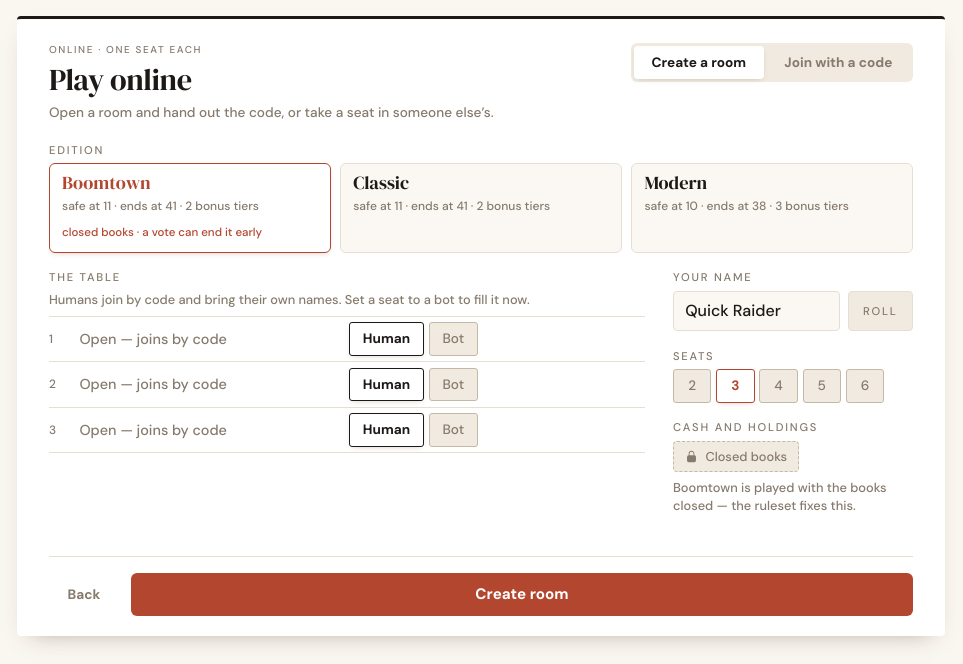
Scenario: CreateJoin › refuses a code the directory does not know, without saying why
The image size is (963, 664).
Click the button "Join with a code".
click(838, 63)  # box [767, 46, 910, 80]
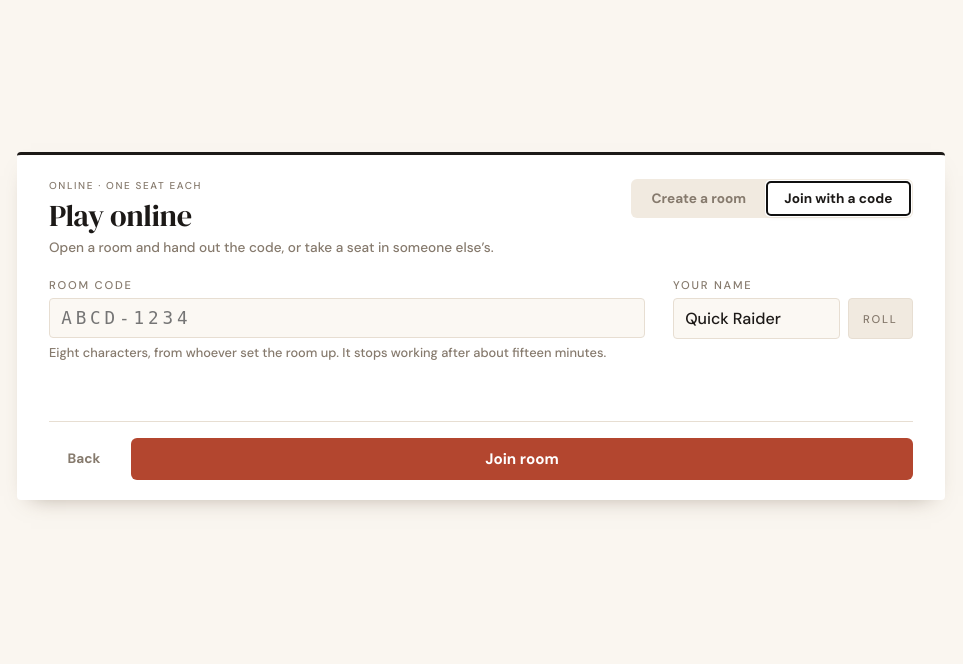
Type "ABCD1234" into the field labelled "Room code".
click(347, 318); type("ABCD1234")  # box [49, 298, 645, 338]
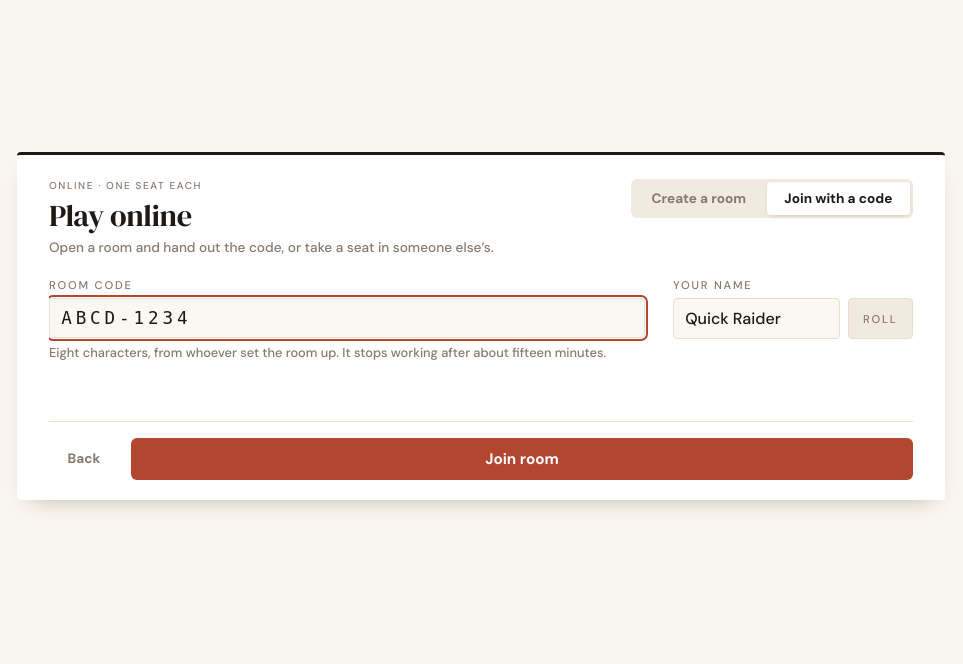
Click the button "Join room".
click(522, 459)  # box [131, 438, 913, 480]
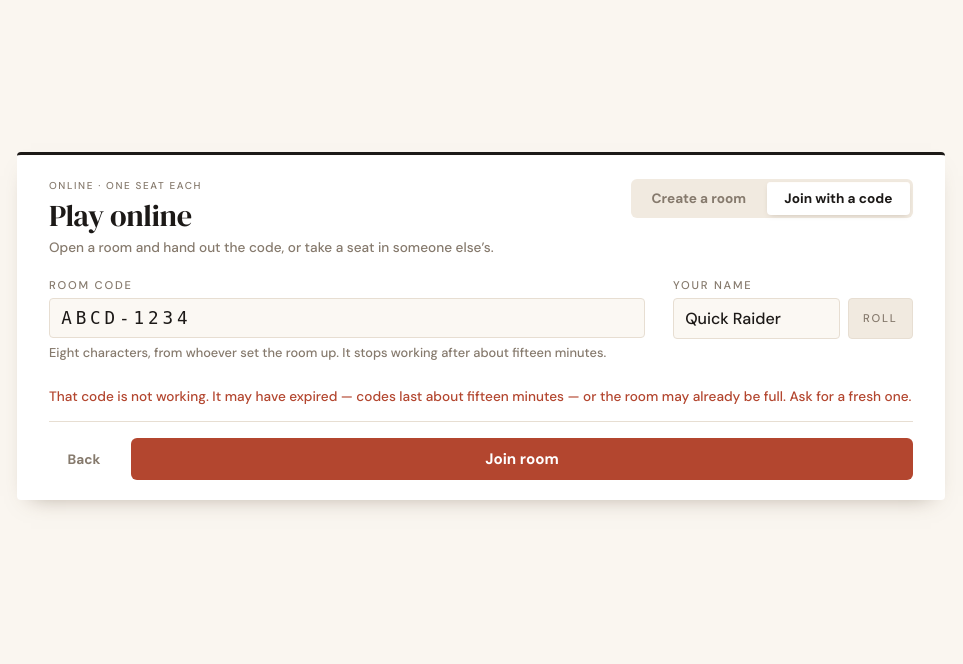
Check: the text "not working" is shown, box [49, 388, 912, 405]
